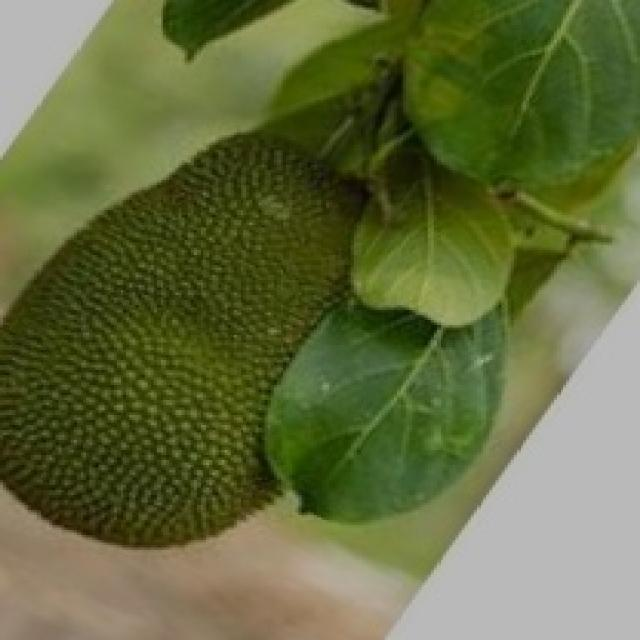Fruit: (0, 255, 388, 577)
